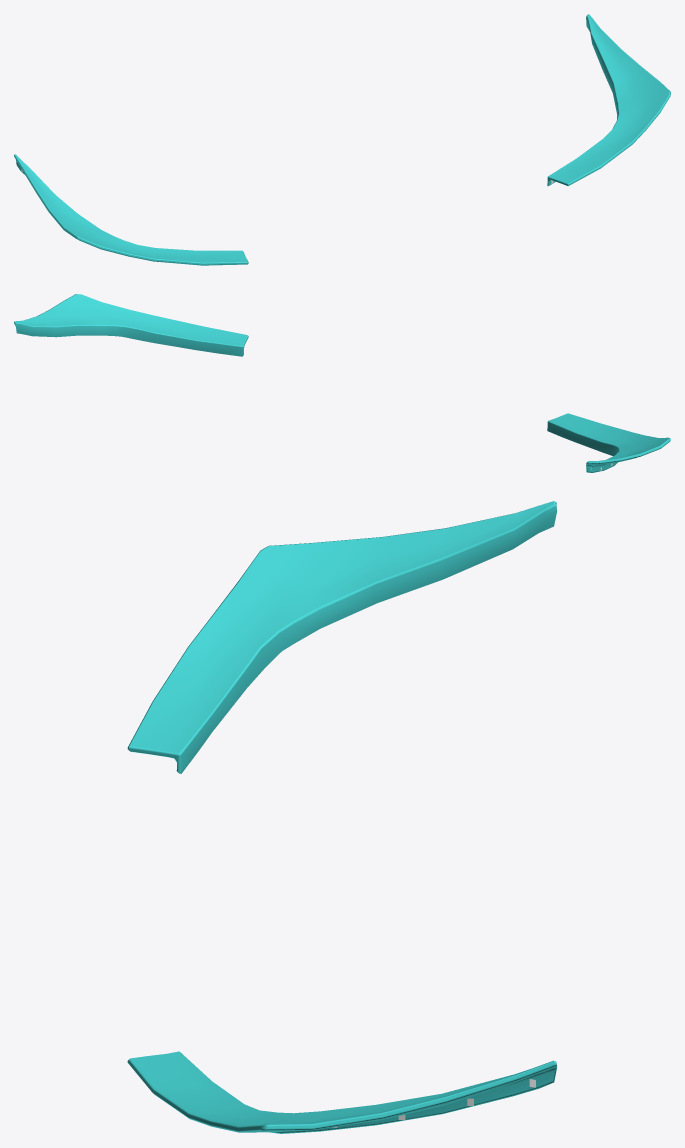
File: Car_Nissan_SkylineGTRVspecR34_1999_CanardsF_SetF_AltA.fbx
The picture shows the model from 3 angles, top to bottom: view 1: azimuth 30°, elevation 25°; view 2: azimuth 150°, elevation 25°; view 3: azimuth 270°, elevation 25°; orthographic projection. The views are drawn at different scales.
Visible parts, largest first — view 1: CanardsF 6; view 2: CanardsF 6; view 3: CanardsF 6.
Boxes of the visible parts, x1=… form: CanardsF 6: x1=14, y1=14, x2=670, y2=265; CanardsF 6: x1=14, y1=294, x2=670, y2=472; CanardsF 6: x1=127, y1=501, x2=557, y2=1133.
Bounding box in the file's own units: 1.84 × 0.2087 × 0.5728.
